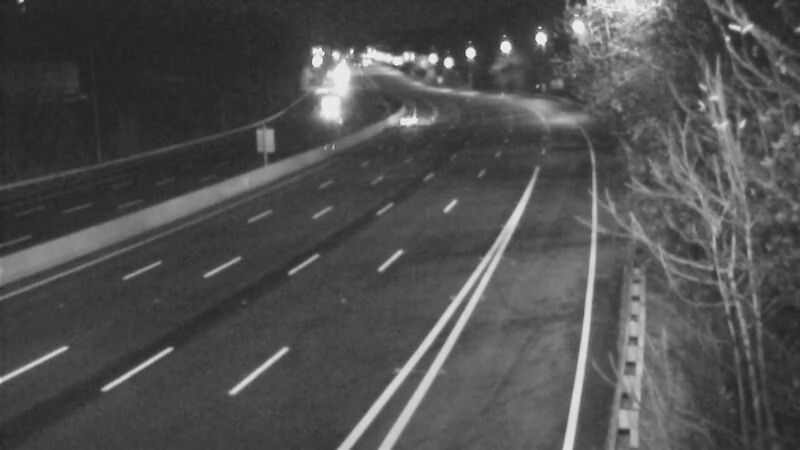vehicle: (387, 94, 437, 144), (307, 81, 357, 131)
